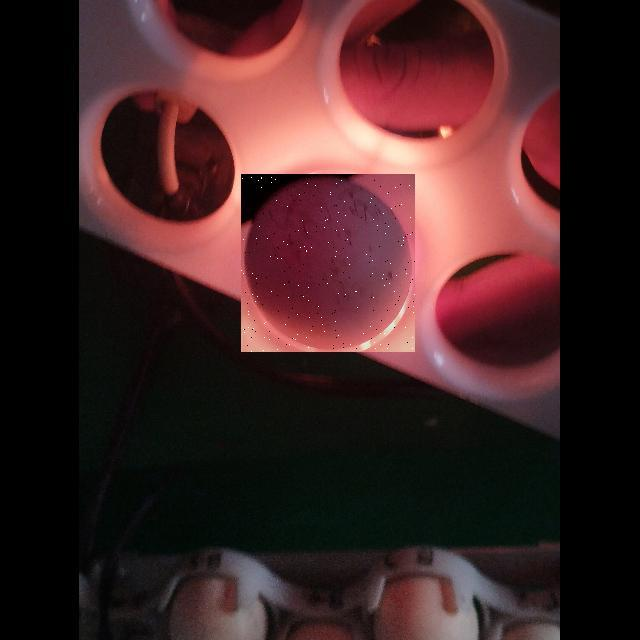Fertile: (241, 174, 415, 352)
